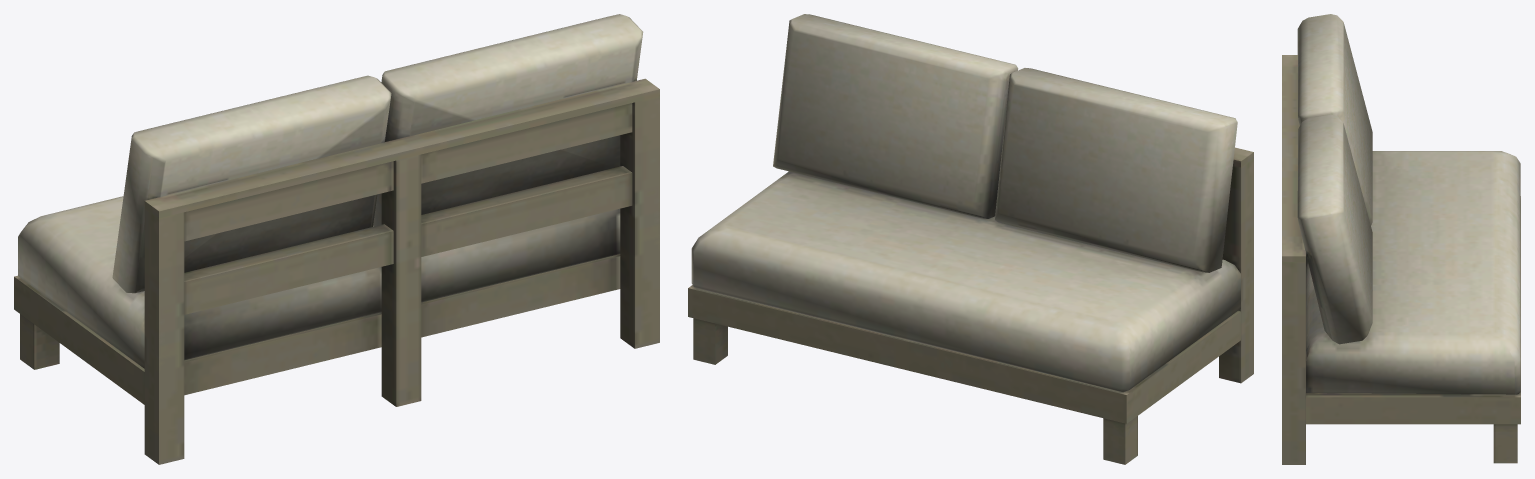
Rendered from furni_0200488.FBX.
3 renders of one model, left to right at view 1: azimuth 30°, elevation 25°; view 2: azimuth 150°, elevation 25°; view 3: azimuth 270°, elevation 25°, orthographic. The views are drawn at different scales.
Parts seen in each view (by area): view 1: furni_0200488; view 2: furni_0200488; view 3: furni_0200488.
Boxes of the visible parts, <box> form: furni_0200488: <box>14,14,659,464</box>; furni_0200488: <box>688,14,1253,464</box>; furni_0200488: <box>1282,14,1520,464</box>.
Bounding box in the file's own units: 159 × 93.08 × 80.
1 material, 1 textured.
